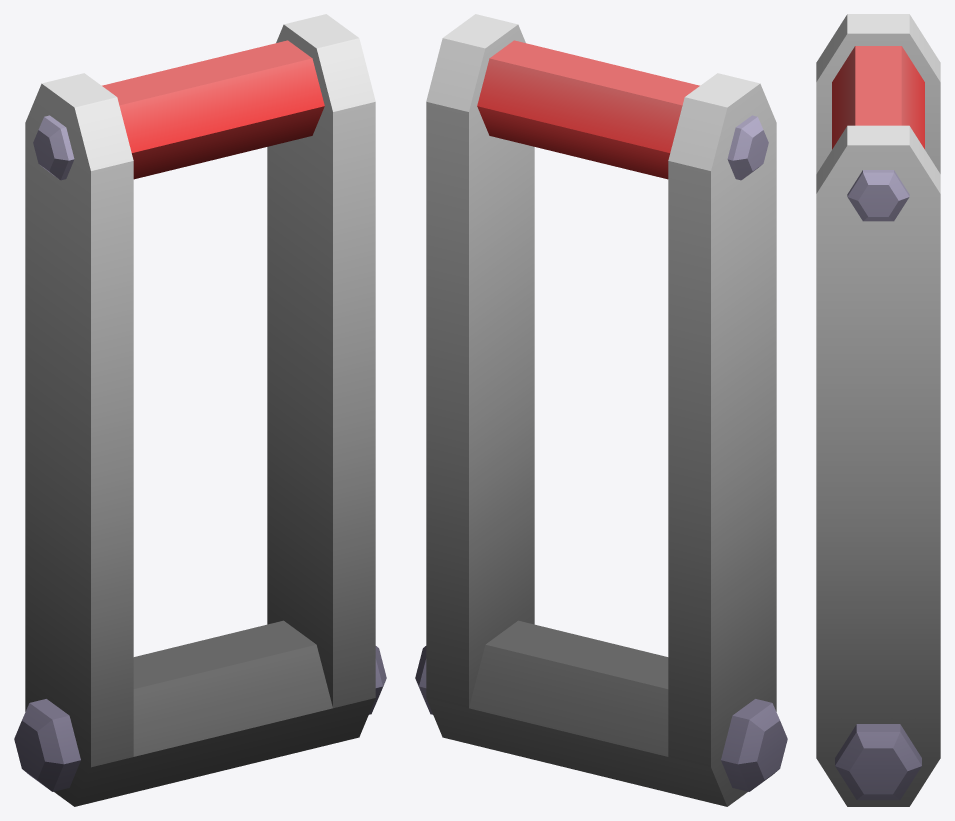
The model's file is lever_arm.glb.
3 views of the same model, side by side, from view 1: azimuth 30°, elevation 25°; view 2: azimuth 150°, elevation 25°; view 3: azimuth 270°, elevation 25° (orthographic). The views are drawn at different scales.
Visible parts, largest first — view 1: Lever, Cylinder001, Cylinder002; view 2: Lever, Cylinder001, Cylinder002; view 3: Lever, Cylinder001, Cylinder002.
Part boxes in pixels (x1,y1,x2,y2): Lever: (25, 14, 375, 806); Cylinder001: (14, 646, 386, 791); Cylinder002: (33, 115, 74, 180); Lever: (426, 14, 776, 806); Cylinder001: (415, 646, 787, 791); Cylinder002: (727, 115, 768, 180); Lever: (816, 14, 940, 806); Cylinder001: (835, 724, 921, 800); Cylinder002: (847, 170, 909, 221).
Bounding box in the file's own units: 0.6 × 1.17 × 0.2.
Materials: 3 (3 with a texture image).
